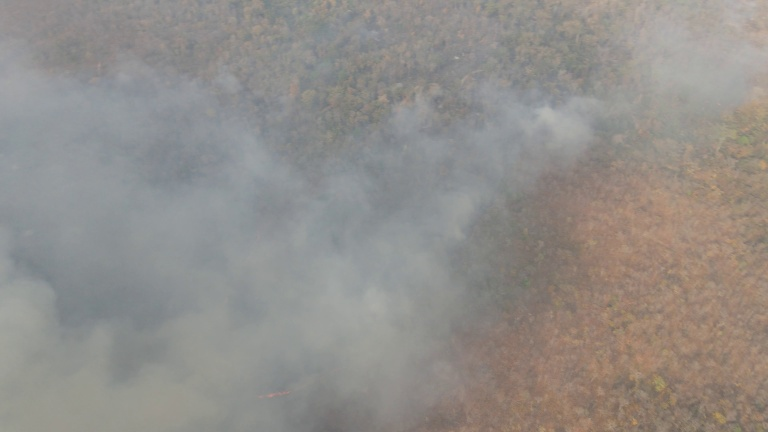fire: (254, 387, 299, 404)
smoke: (1, 86, 512, 432)
